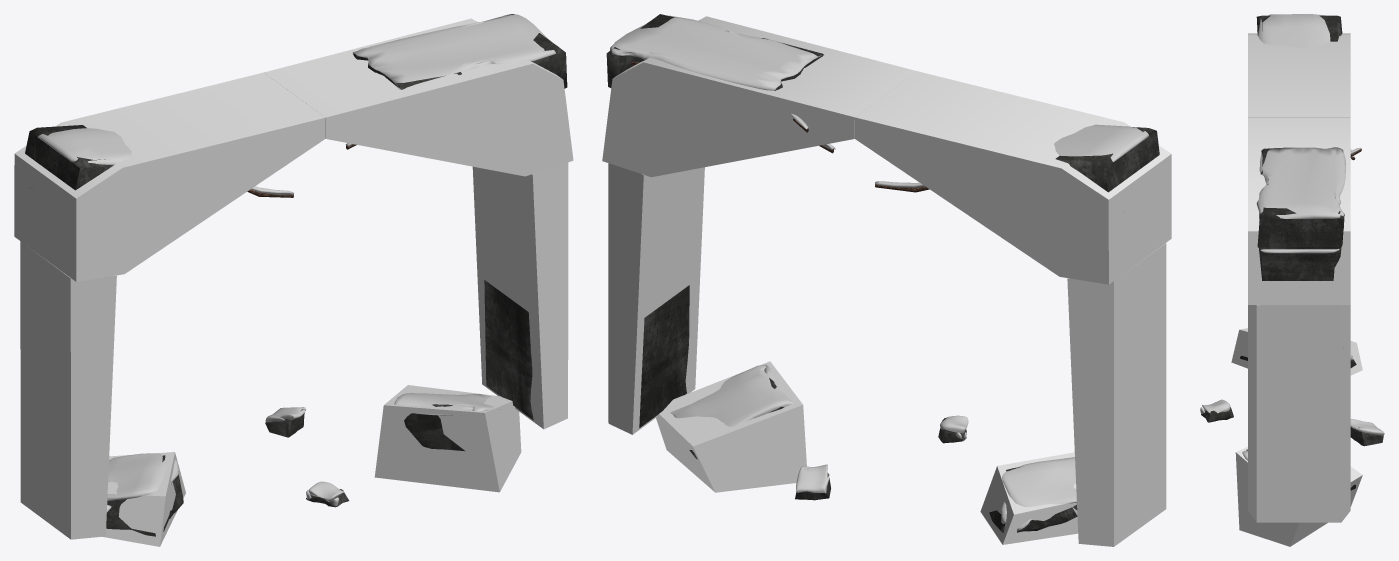
The model's file is Arch_Broken.fbx.
The picture shows the model from 3 angles, left to right: view 1: azimuth 30°, elevation 25°; view 2: azimuth 150°, elevation 25°; view 3: azimuth 270°, elevation 25°; orthographic projection. The views are drawn at different scales.
Parts seen in each view (by area): view 1: Arch_Broken_col, Snow, Arch_Broken; view 2: Arch_Broken_col, Snow, Arch_Broken; view 3: Arch_Broken_col, Snow, Arch_Broken.
Part boxes in pixels (x1,y1,x2,y2): Arch_Broken_col: (14, 18, 573, 546); Snow: (29, 14, 555, 511); Arch_Broken: (25, 14, 567, 536); Arch_Broken_col: (602, 16, 1171, 546); Snow: (610, 15, 1148, 530); Arch_Broken: (606, 14, 1159, 532); Arch_Broken_col: (1231, 33, 1362, 546); Snow: (1200, 14, 1384, 484); Arch_Broken: (1201, 15, 1383, 490).
Bounding box in the file's own units: 272 × 220 × 105.
